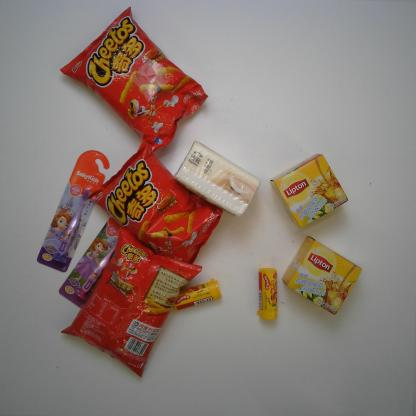Candy: (172, 278, 224, 312), (257, 266, 281, 324)
Instant Drink: (280, 233, 363, 318), (268, 150, 349, 232)
Personal Hygiene: (38, 148, 110, 274), (55, 216, 131, 310)
Puffed Food: (58, 3, 210, 156), (60, 221, 204, 379), (80, 133, 225, 267)
Tissue: (172, 138, 263, 218)
